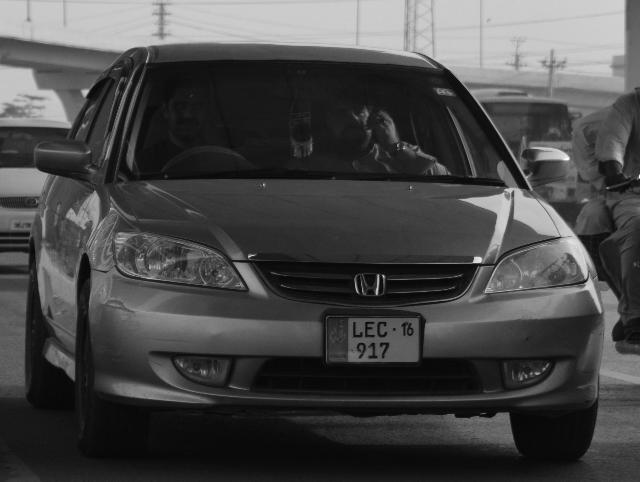Number: (350, 322, 398, 360)
